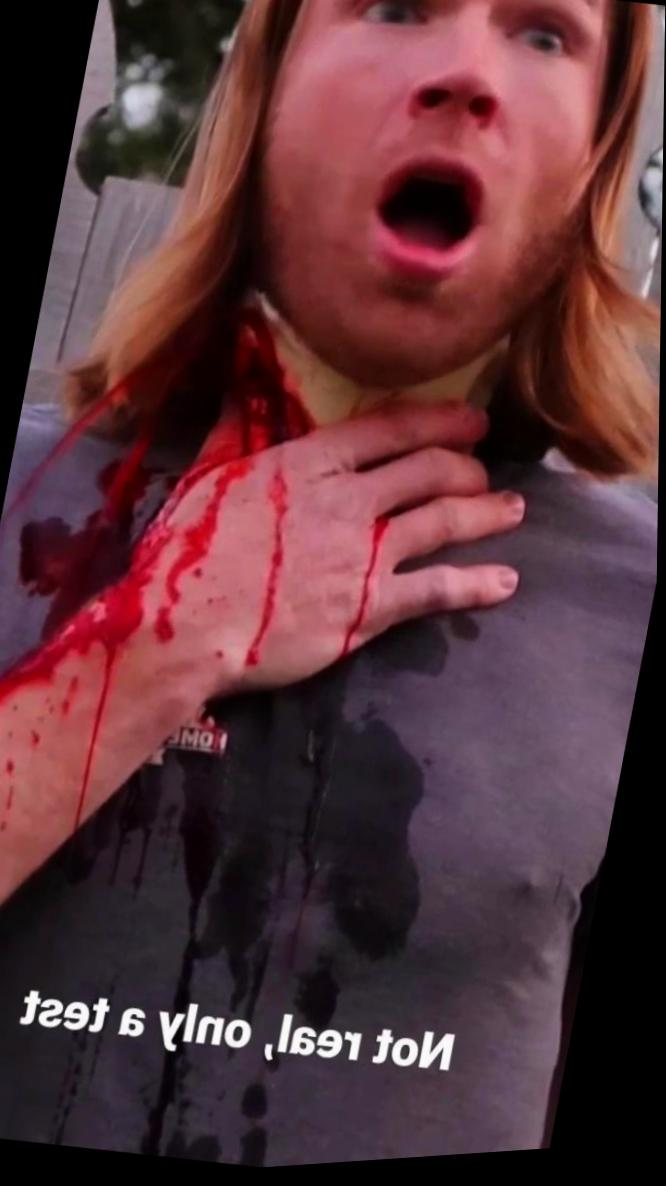Fire: (0, 454, 390, 819), (0, 343, 201, 543), (2, 448, 197, 653), (211, 311, 311, 457), (0, 502, 25, 544)
